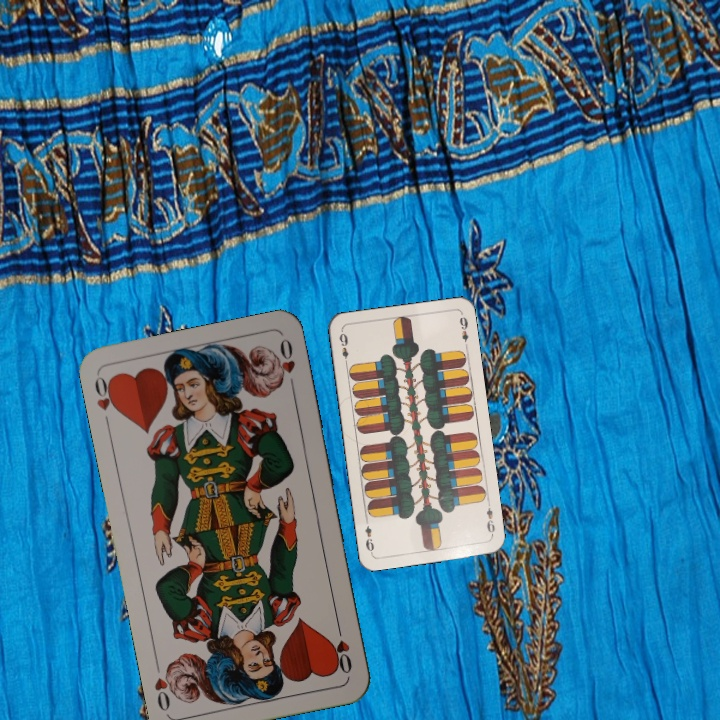E9: (482, 498, 498, 539), (335, 329, 351, 368)
HO: (90, 372, 121, 430), (331, 619, 355, 677)
